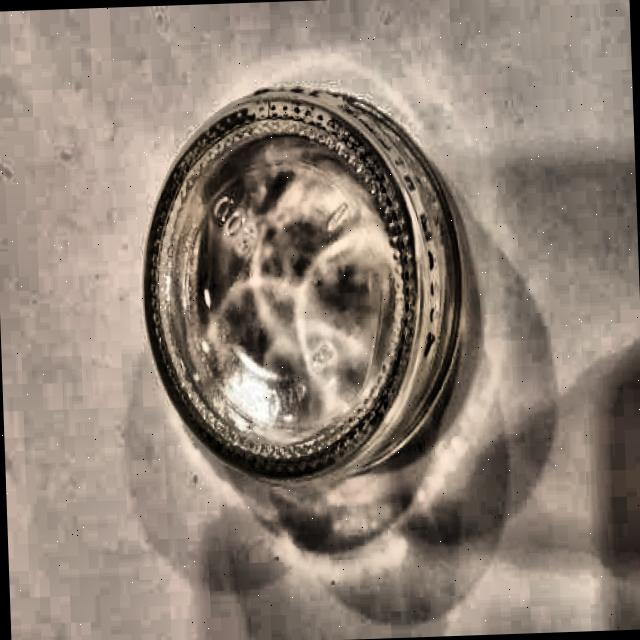glass: (135, 71, 478, 498)
